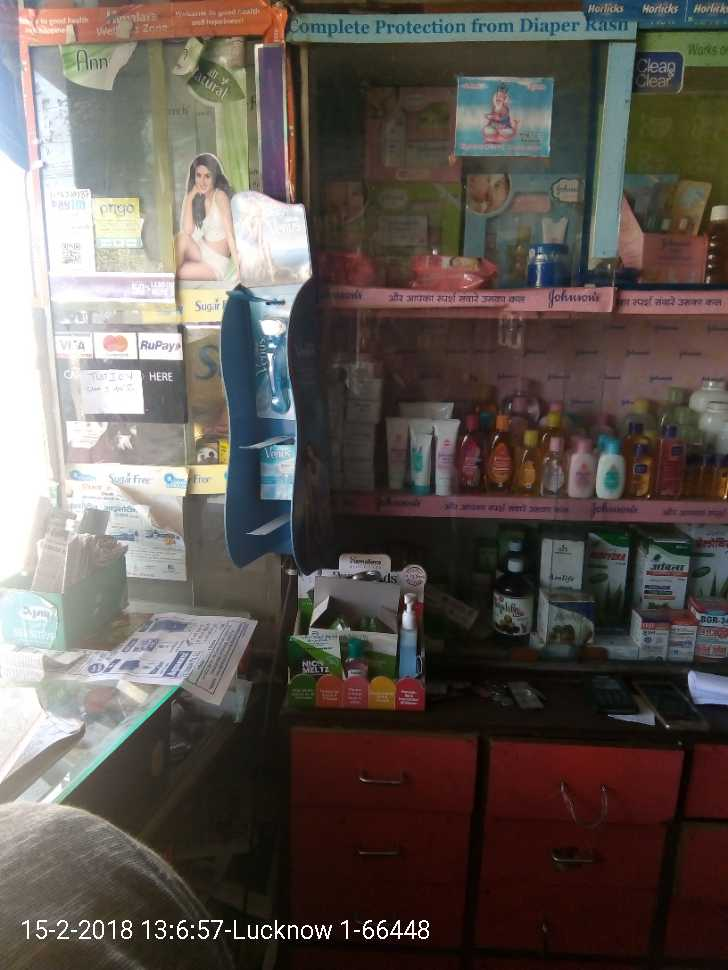venus: (245, 312, 304, 425)
